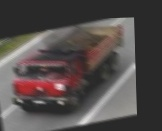truck: (1, 19, 136, 124)
